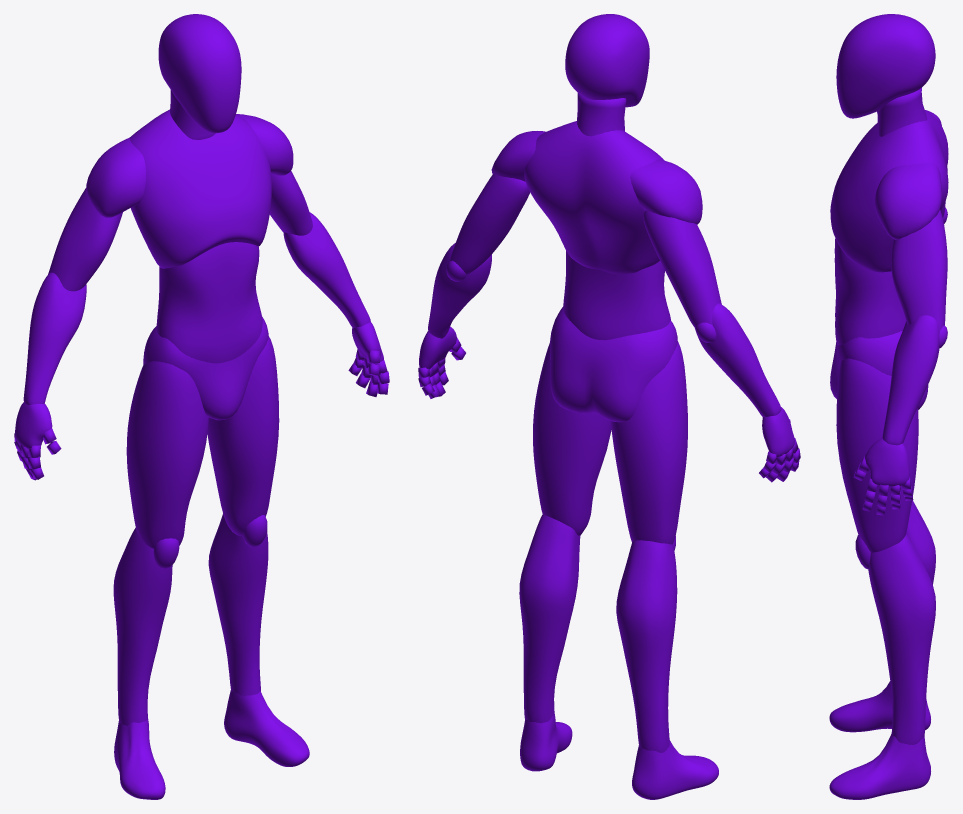
The model's file is week4-plastic-figure.glb.
3 renders of one model, left to right at view 1: azimuth 30°, elevation 25°; view 2: azimuth 150°, elevation 25°; view 3: azimuth 270°, elevation 25°, orthographic. The views are drawn at different scales.
Visible parts, largest first — view 1: M_Chest, M_Upper_Leg_R, M_Stomach, M_Upper_Leg_L, M_Lower_Leg_R, M_Head, M_Lower_Leg_L, M_Lower_Arm_R, M_Hips, M_Upper_Arm_R, M_Lower_Arm_L, M_Feet_L (+7 smaller); view 2: M_Chest, M_Upper_Leg_R, M_Lower_Leg_R, M_Hips, M_Lower_Leg_L, M_Upper_Leg_L, M_Stomach, M_Head, M_Upper_Arm_R, M_Upper_Arm_L, M_Lower_Arm_R, M_Feet_R (+7 smaller); view 3: M_Lower_Leg_L, M_Chest, M_Upper_Leg_L, M_Head, M_Stomach, M_Upper_Arm_L, M_Lower_Arm_L, M_Shoulders_L, M_Feet_L, M_Feet_R, M_Hips, M_Hand_L (+6 smaller).
Part boxes in pixels (x1,y1,x2,y2): M_Chest: (130, 109, 271, 268); M_Upper_Leg_R: (126, 361, 208, 548); M_Stomach: (156, 242, 262, 363); M_Upper_Leg_L: (207, 336, 279, 536); M_Lower_Leg_R: (113, 527, 172, 725); M_Head: (158, 14, 241, 133); M_Lower_Leg_L: (208, 514, 268, 710); M_Lower_Arm_R: (23, 272, 86, 405); M_Hips: (143, 316, 268, 420); M_Upper_Arm_R: (48, 188, 122, 291); M_Lower_Arm_L: (283, 212, 370, 328); M_Feet_L: (224, 690, 309, 766); M_Chest: (524, 121, 664, 274); M_Upper_Leg_R: (610, 341, 687, 544); M_Lower_Leg_R: (616, 540, 677, 752); M_Hips: (550, 306, 677, 422); M_Lower_Leg_L: (519, 514, 580, 730); M_Upper_Leg_L: (533, 343, 611, 535); M_Stomach: (563, 251, 670, 340); M_Head: (565, 14, 649, 107); M_Upper_Arm_R: (643, 210, 721, 328); M_Upper_Arm_L: (450, 174, 530, 274); M_Lower_Arm_R: (695, 303, 781, 417); M_Feet_R: (632, 740, 718, 799); M_Lower_Leg_L: (868, 534, 935, 744); M_Chest: (830, 110, 948, 272); M_Upper_Leg_L: (836, 358, 918, 552); M_Head: (836, 14, 935, 118); M_Stomach: (834, 238, 906, 345); M_Upper_Arm_L: (891, 209, 947, 331); M_Lower_Arm_L: (882, 315, 939, 445); M_Shoulders_L: (875, 162, 941, 239); M_Feet_L: (829, 734, 930, 799); M_Feet_R: (829, 681, 930, 732); M_Hips: (830, 331, 928, 409); M_Hand_L: (865, 438, 909, 486).
Bounding box in the file's own units: 5.73 × 11.33 × 1.64.
